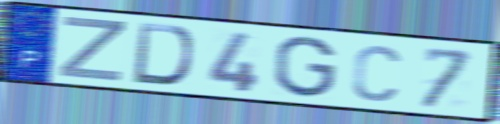4: (205, 28, 262, 95)
7: (419, 46, 474, 110)
C: (350, 42, 403, 103)
D: (129, 21, 195, 87)
G: (273, 34, 339, 99)
Z: (55, 14, 128, 84)
